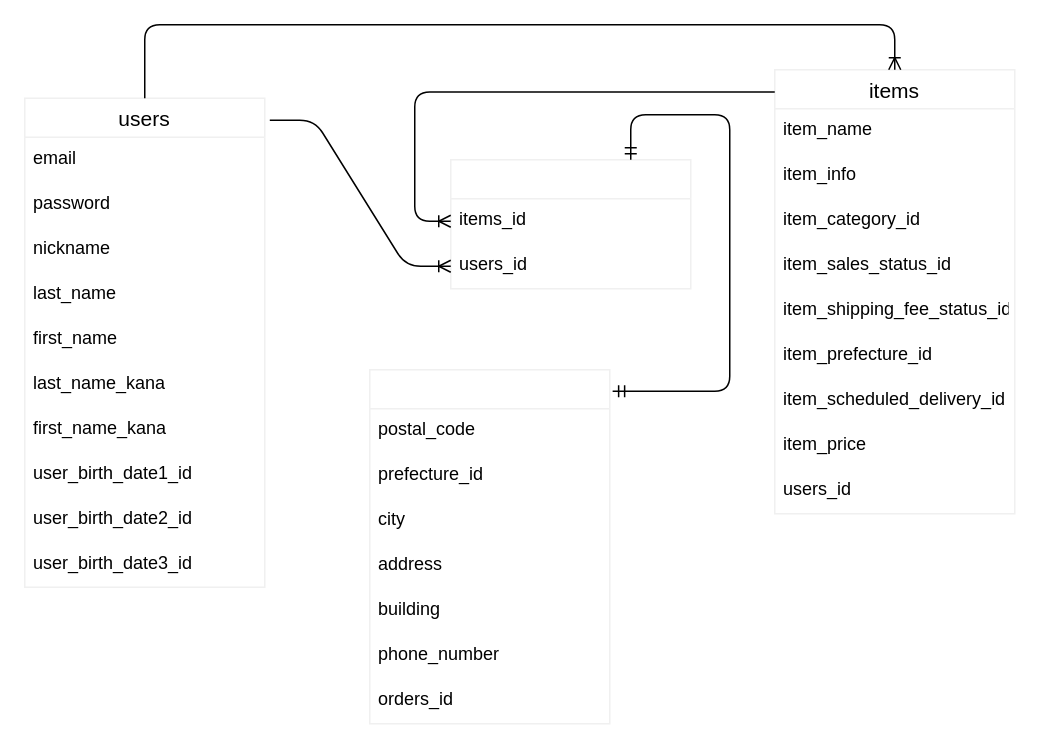
The diagram is 1040 pixels wide and 749 high, and some of its shapes have lost their labels. Here are the shapes that lost their labels. From the top down, the box of each, then its label:
(449, 158, 691, 289): orders
(368, 368, 610, 724): shipping_addresses
